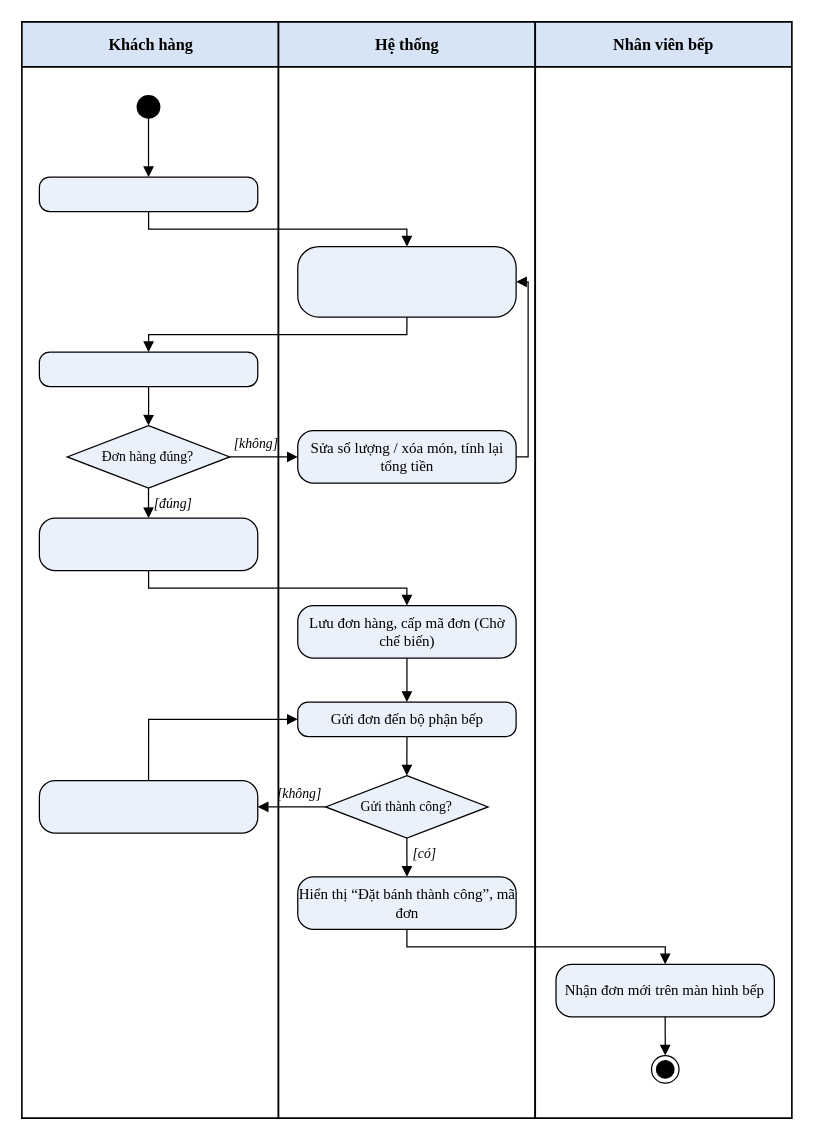
Image size: 815x1141. Some labels were removed from this diagram. Each missing label, with the centre of its shape:
Chọn “Xem đơn hàng”: point (148, 194)
Chọn “Xác nhận đặt bánh” → “Đồng ý”: point (148, 544)
Hiển thị chi tiết đơn, tính tổng tiền (tạm tính + VAT): point (406, 281)
Kiểm tra đơn hàng: point (148, 368)
Nhận thông báo gửi thất bại, chọn gửi lại: point (148, 806)
